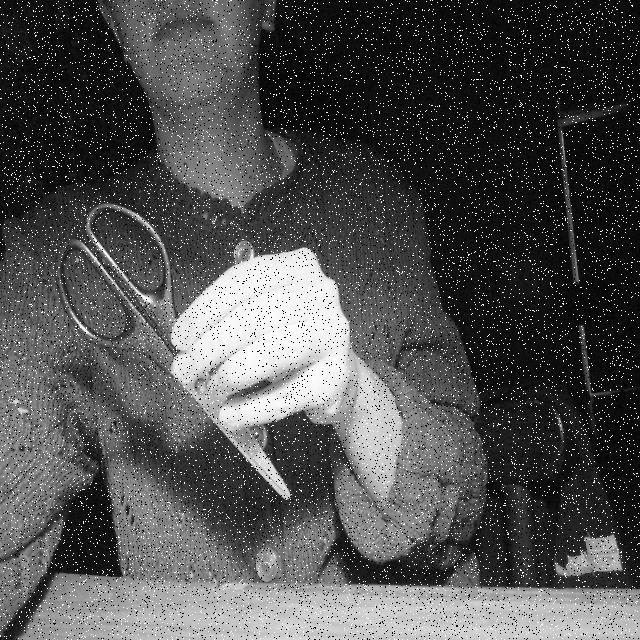scissors: (37, 180, 315, 531)
